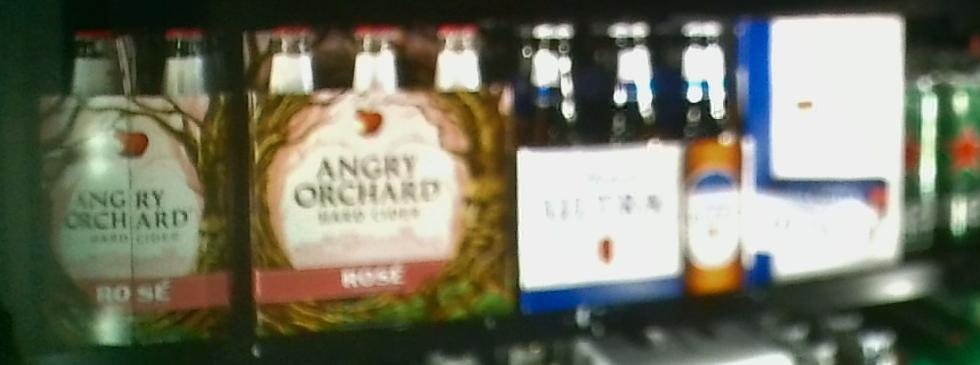bottle: (248, 19, 507, 333), (41, 25, 247, 346), (516, 15, 741, 304), (745, 12, 905, 286)
